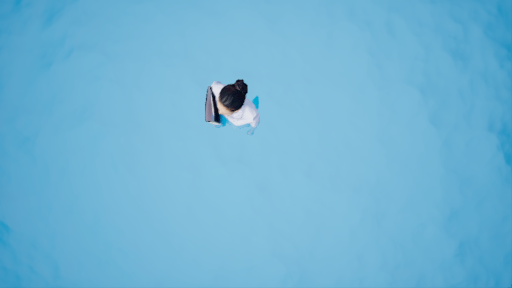person: (196, 81, 269, 133)
